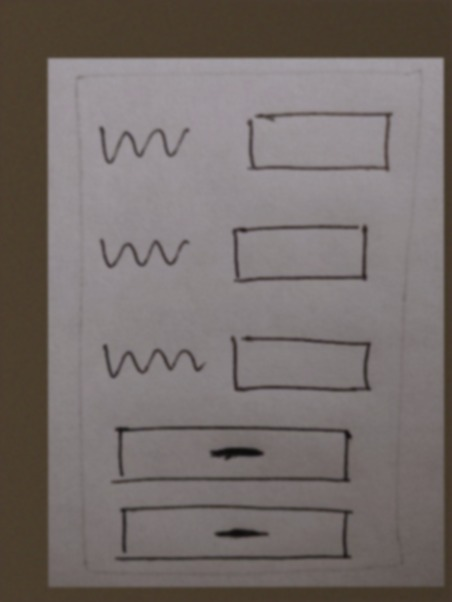button: (105, 418, 356, 490), (105, 497, 359, 568)
text: (95, 331, 213, 393), (90, 118, 195, 164), (91, 230, 195, 271)
text_input: (235, 101, 402, 186), (223, 329, 380, 404), (227, 220, 377, 290)
